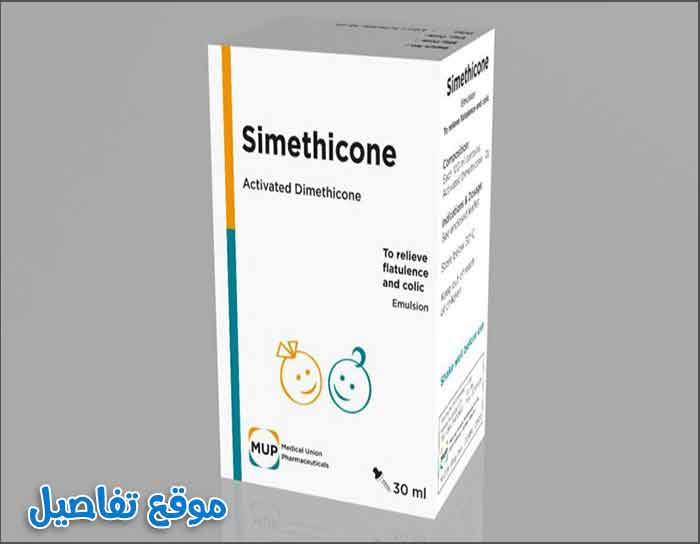Medicine: (196, 13, 517, 521)
